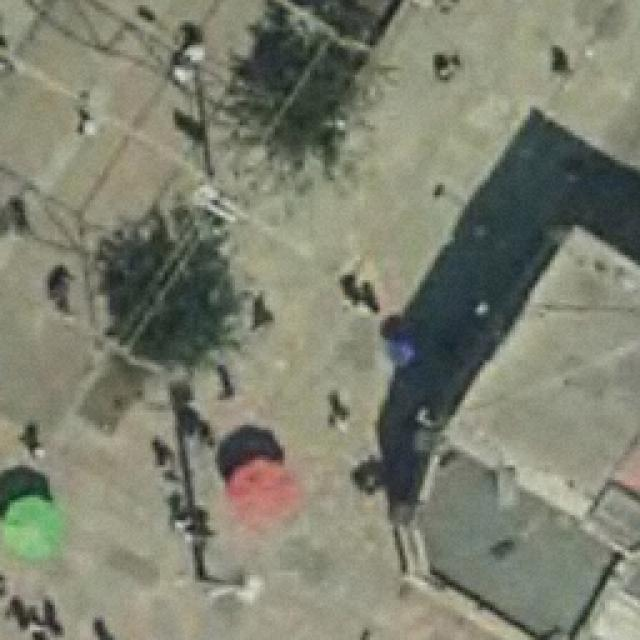vendedor_ambulante: (225, 452, 304, 531), (3, 491, 69, 562), (381, 312, 435, 368)
